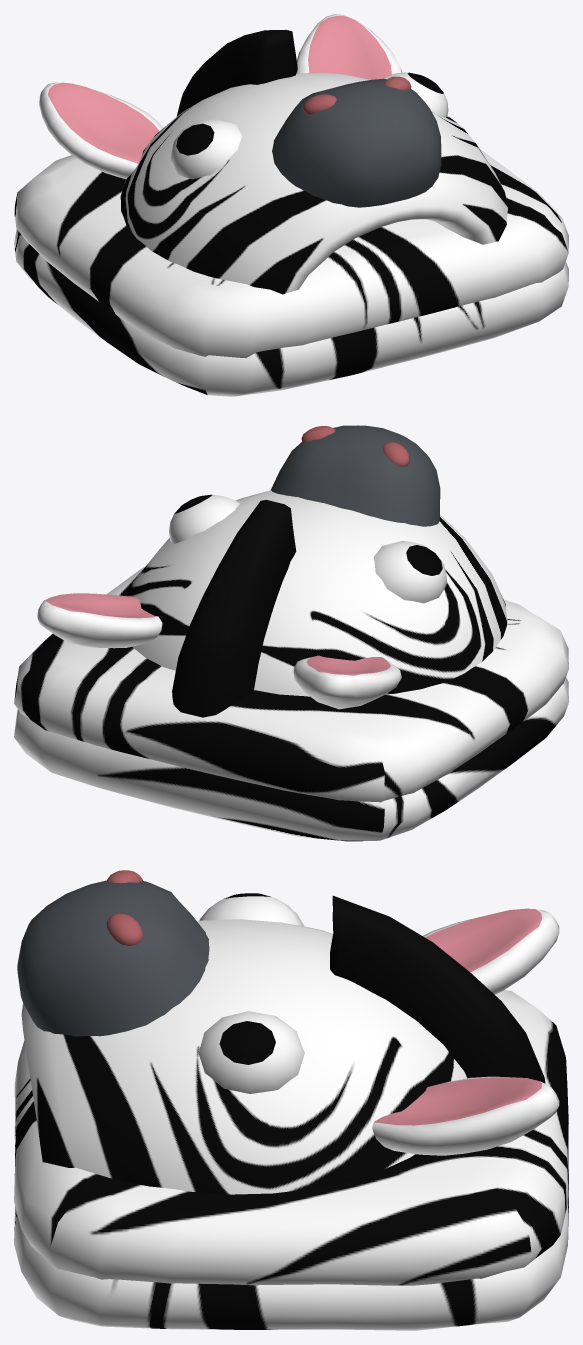
File: Zebra_cloth_gap.fbx
3 views of the same model, one above another, from view 1: azimuth 30°, elevation 25°; view 2: azimuth 150°, elevation 25°; view 3: azimuth 270°, elevation 25° (orthographic). The views are drawn at different scales.
Visible parts, largest first — view 1: Zebra_cloth_gap; view 2: Zebra_cloth_gap; view 3: Zebra_cloth_gap.
Boxes of the visible parts, x1=… form: Zebra_cloth_gap: x1=14, y1=14, x2=568, y2=396; Zebra_cloth_gap: x1=14, y1=425, x2=568, y2=841; Zebra_cloth_gap: x1=14, y1=870, x2=568, y2=1330.
Size of the model in its own units: 177 by 109 by 158.
